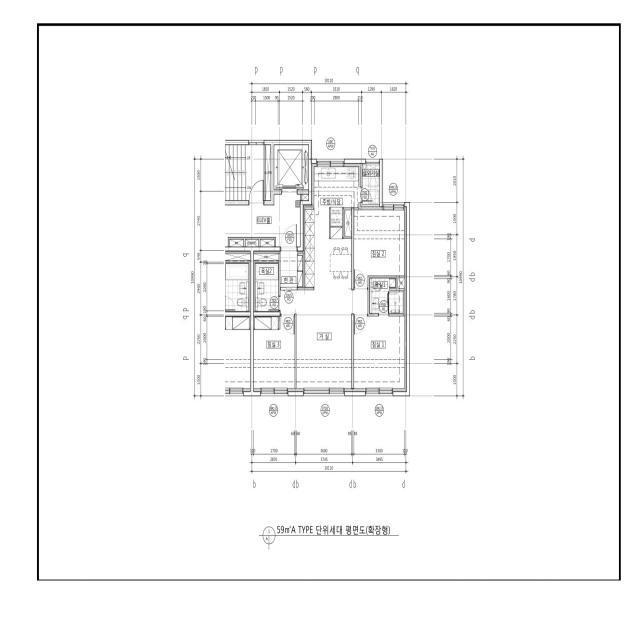space_bedroom: (354, 207, 407, 288), (354, 316, 407, 391), (254, 316, 295, 391)
space_elevator: (274, 145, 309, 190)
space_elevator_hall: (225, 194, 300, 247)
space_front: (280, 252, 303, 290)
space_kitchen: (303, 164, 361, 290)
space_living_room: (280, 290, 368, 391)
space_other: (266, 145, 271, 200), (254, 252, 279, 260), (345, 210, 351, 236), (245, 240, 259, 247), (260, 240, 274, 247), (230, 240, 243, 247), (398, 278, 407, 288), (302, 194, 309, 200)
space_outdoor_room: (362, 164, 380, 204)
space_staircase: (225, 145, 264, 201)
space_toilet: (370, 278, 403, 313), (255, 263, 278, 311)
